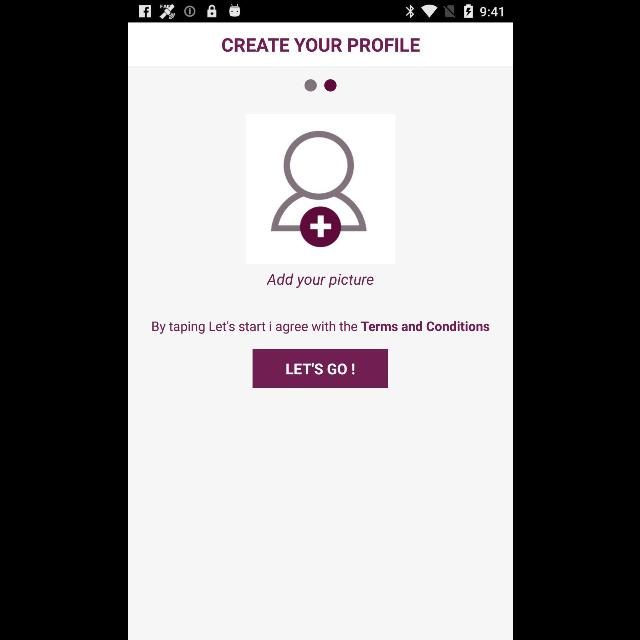image: (244, 114, 394, 264)
pageindicator: (304, 80, 336, 92)
text: (151, 321, 489, 334), (220, 38, 420, 52), (266, 274, 374, 288)
textbutton: (252, 349, 388, 388)
uppertaskbar: (128, 1, 512, 23)
